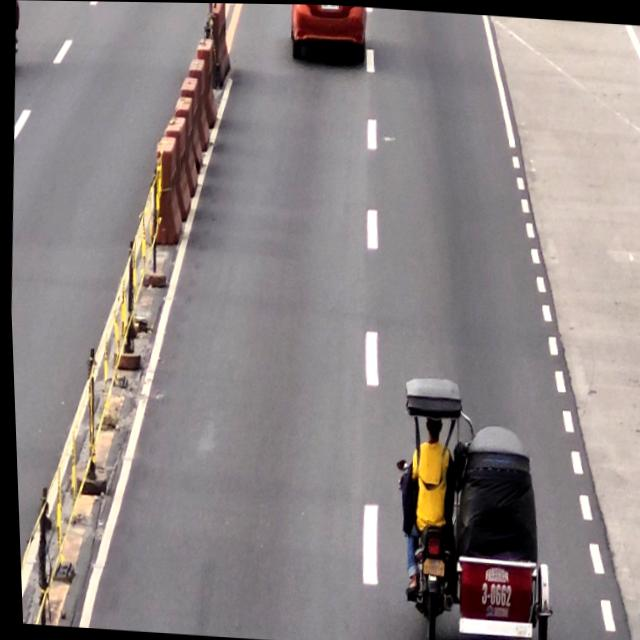License-Plate: (417, 557, 445, 580)
Tricycle: (387, 380, 554, 640)
